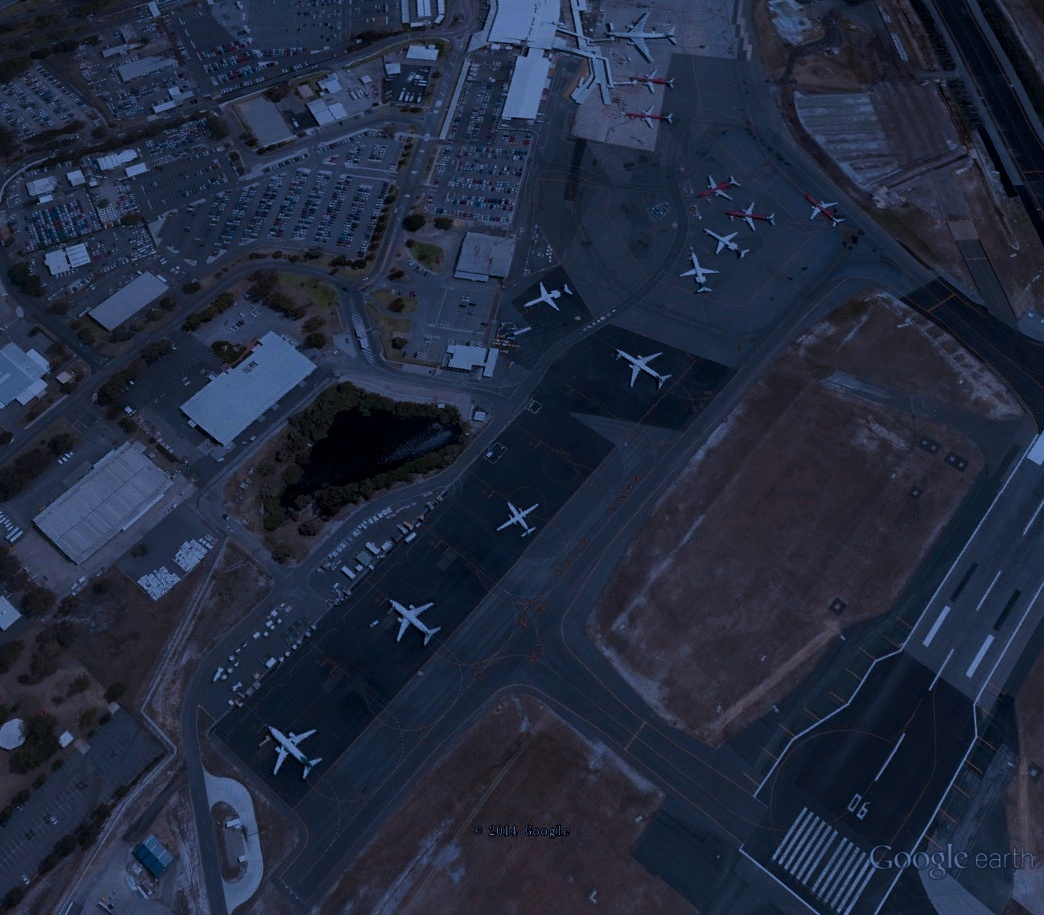aircraft: (603, 7, 682, 66), (265, 721, 323, 784), (614, 343, 676, 395), (385, 595, 444, 648), (516, 277, 580, 318), (495, 498, 545, 543), (676, 251, 722, 299), (722, 201, 780, 237), (621, 100, 679, 133), (701, 225, 752, 261), (802, 193, 849, 231), (627, 66, 681, 99), (695, 169, 743, 203)
